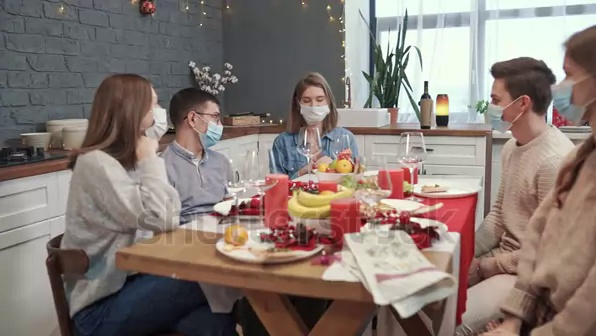Mask: (93, 70, 174, 147), (483, 57, 556, 142), (552, 28, 596, 135), (169, 88, 231, 155), (292, 73, 335, 132)
